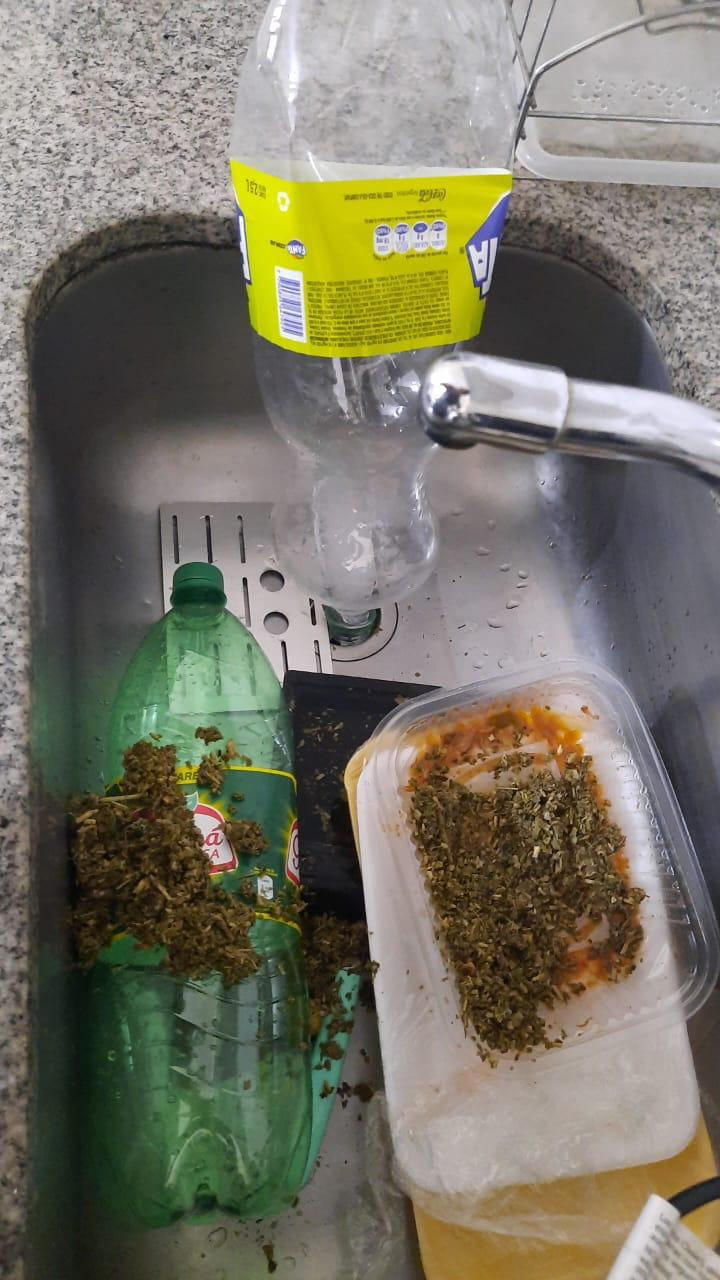bottle: (91, 569, 306, 1215)
